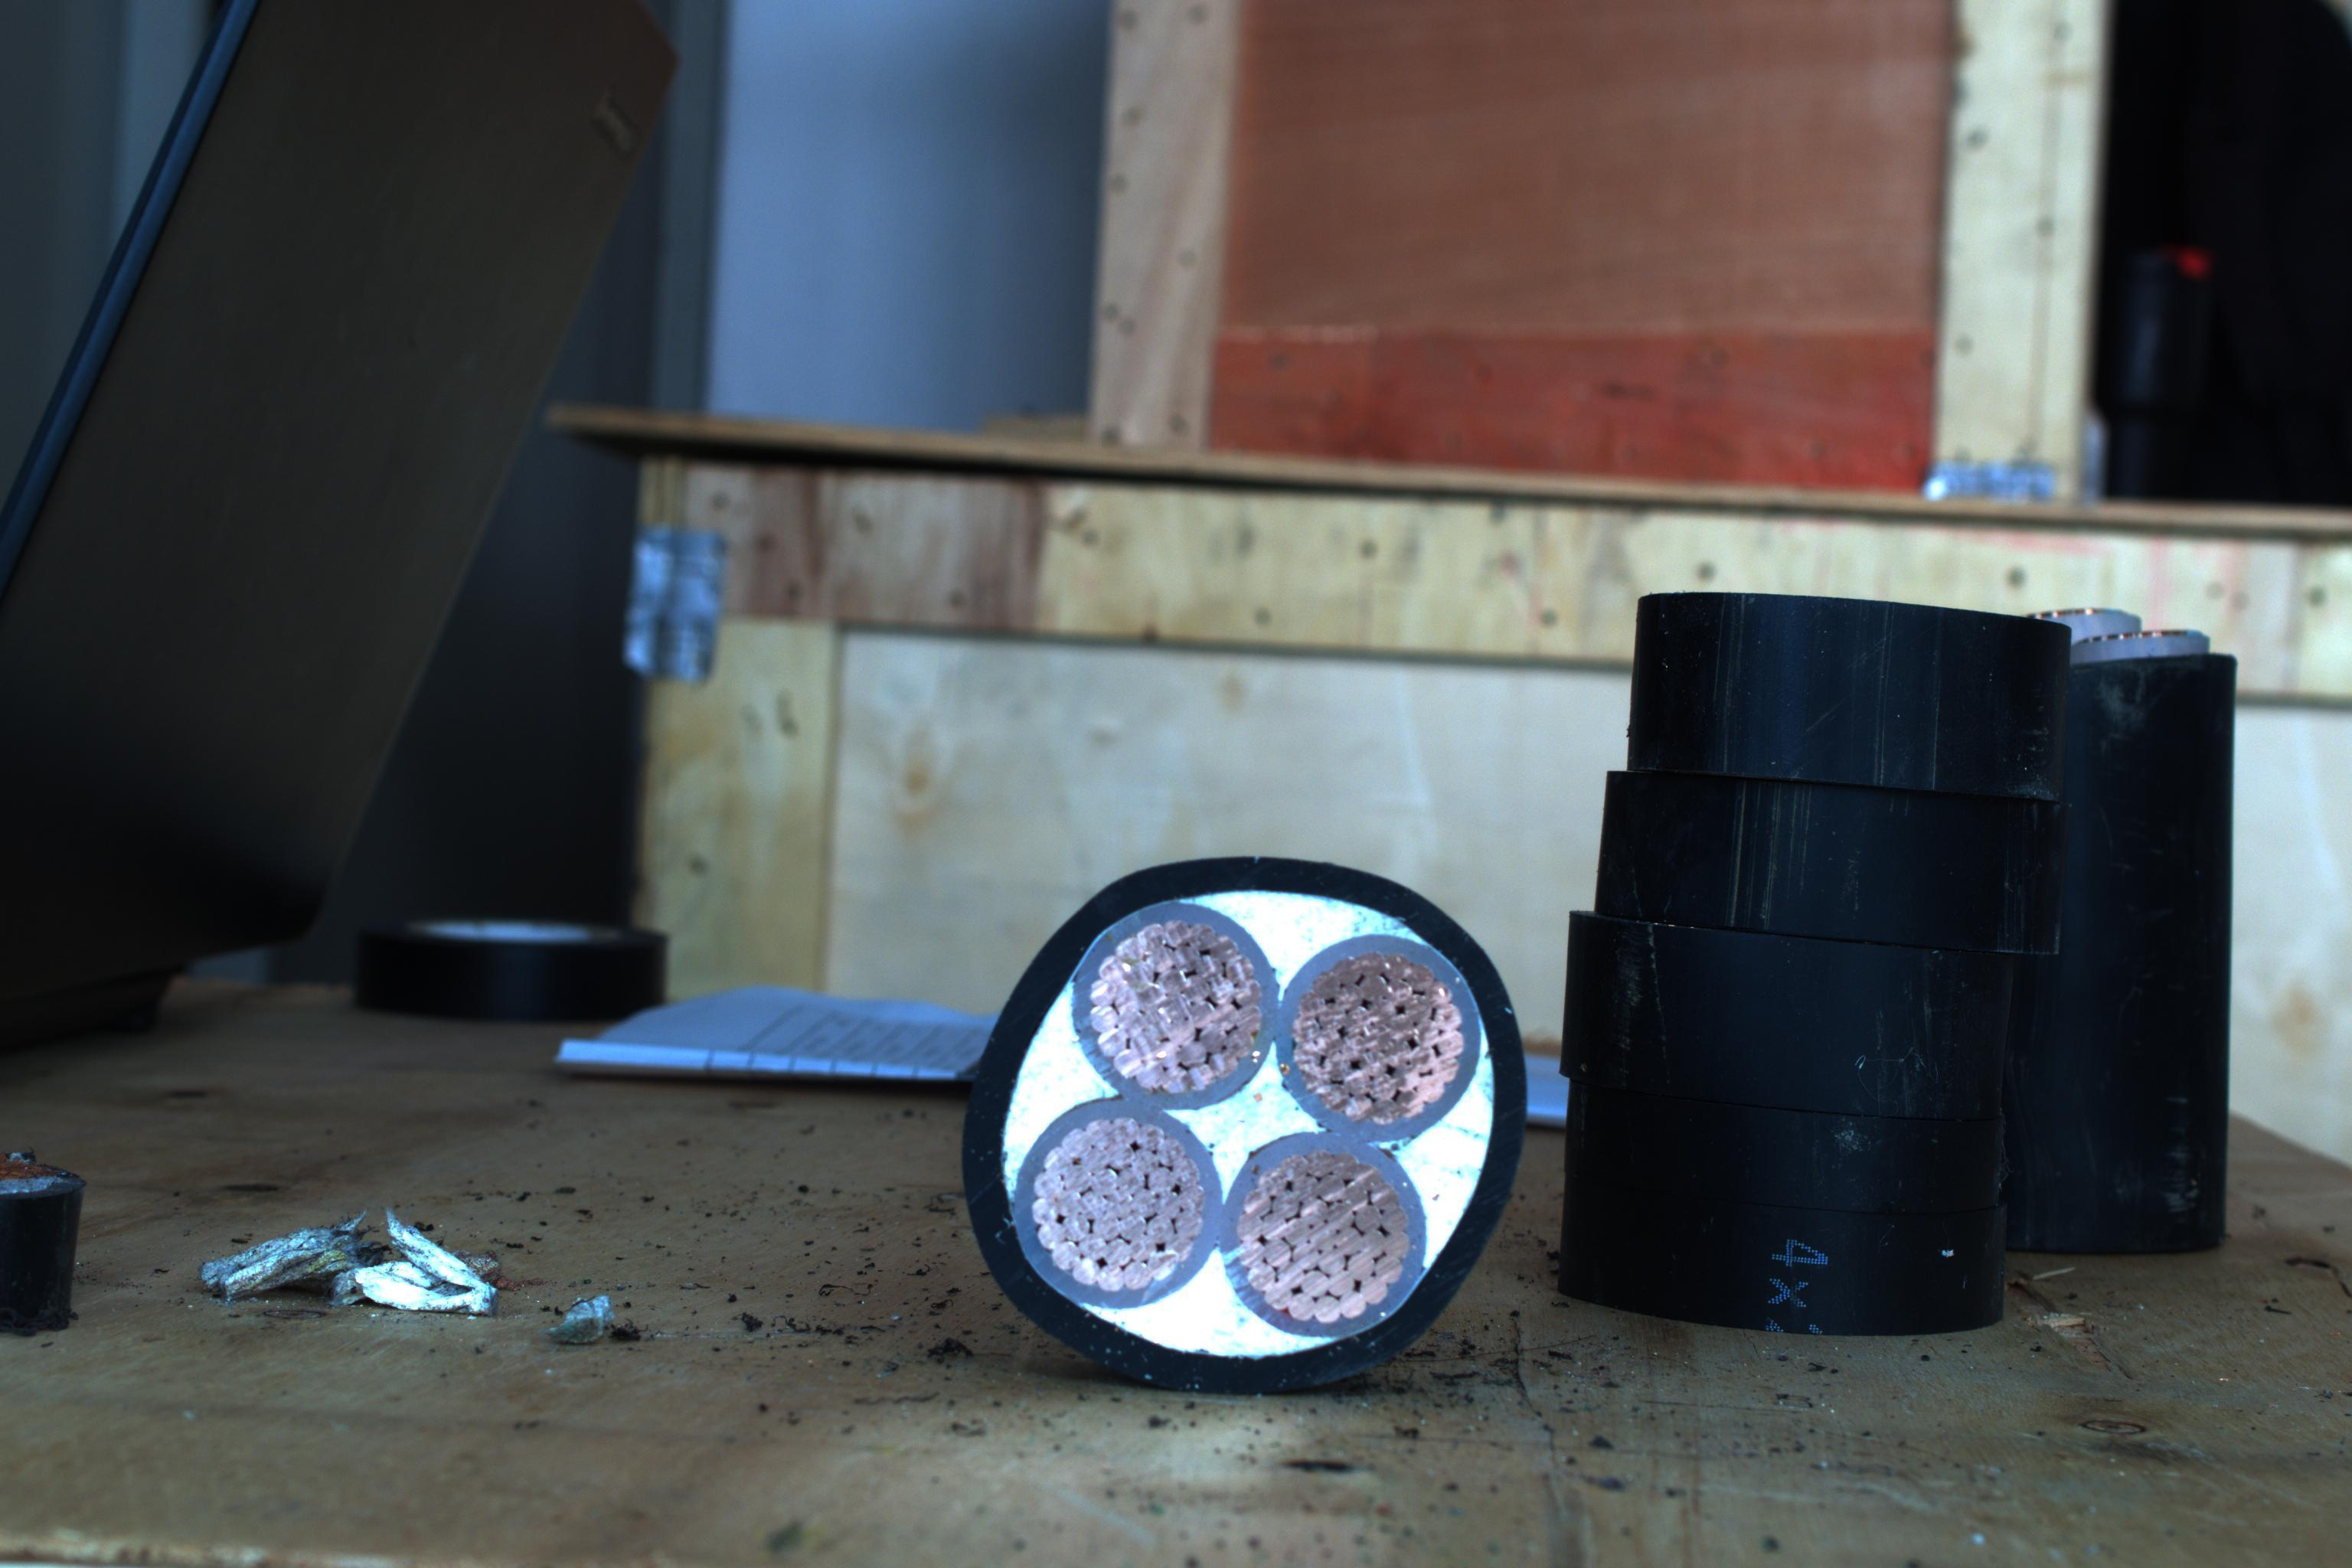YJV_0.6_1kV_4x240: (938, 833, 1552, 1400)
